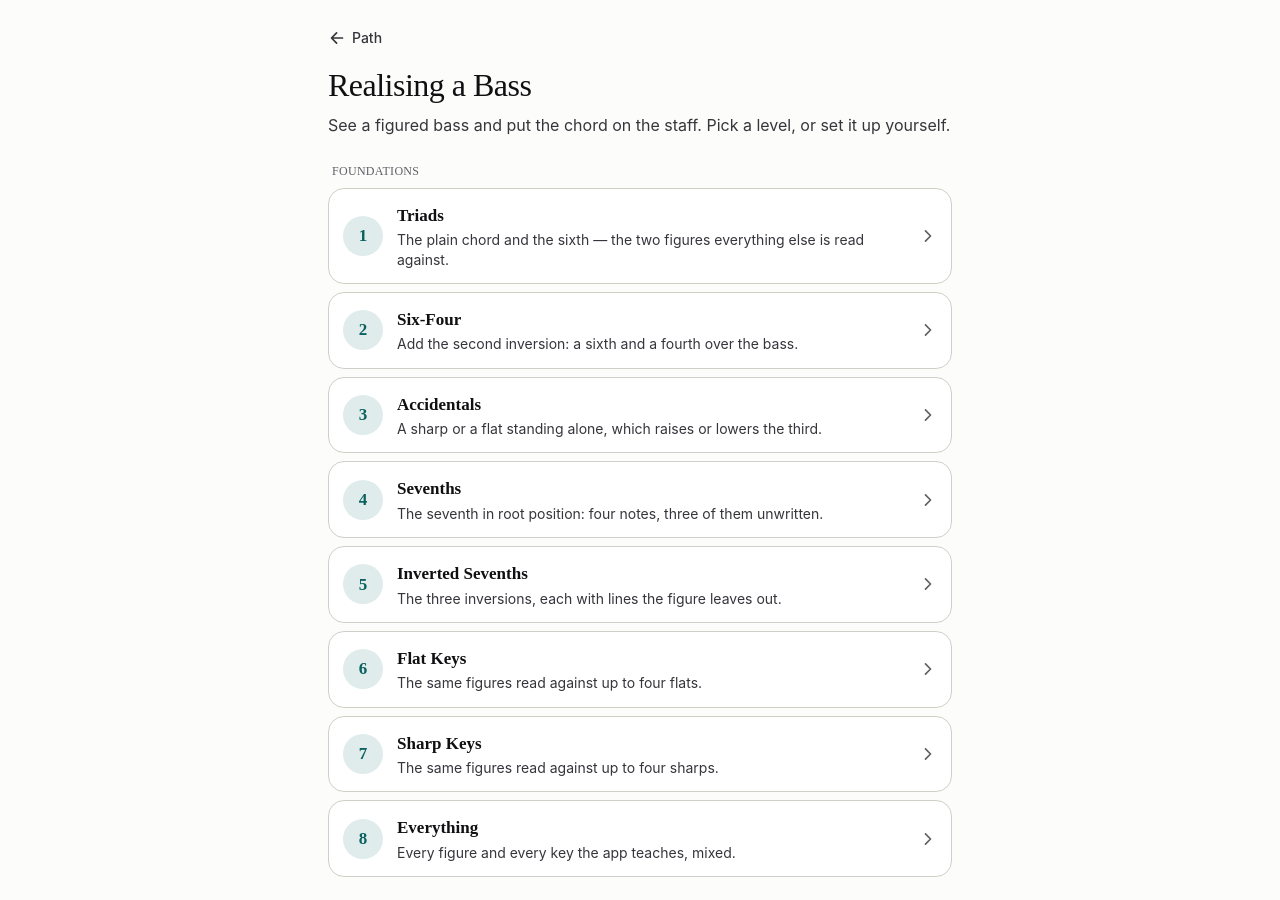
Scenario: realising a bass › opens on the levels, and starts a round in the same tap
The width and height of the screenshot is (1280, 900).
Expected: the text "Triads" is shown, [397,206,444,225]
Click the button "Triads".
click(640, 236)  # box [328,188,952,284]
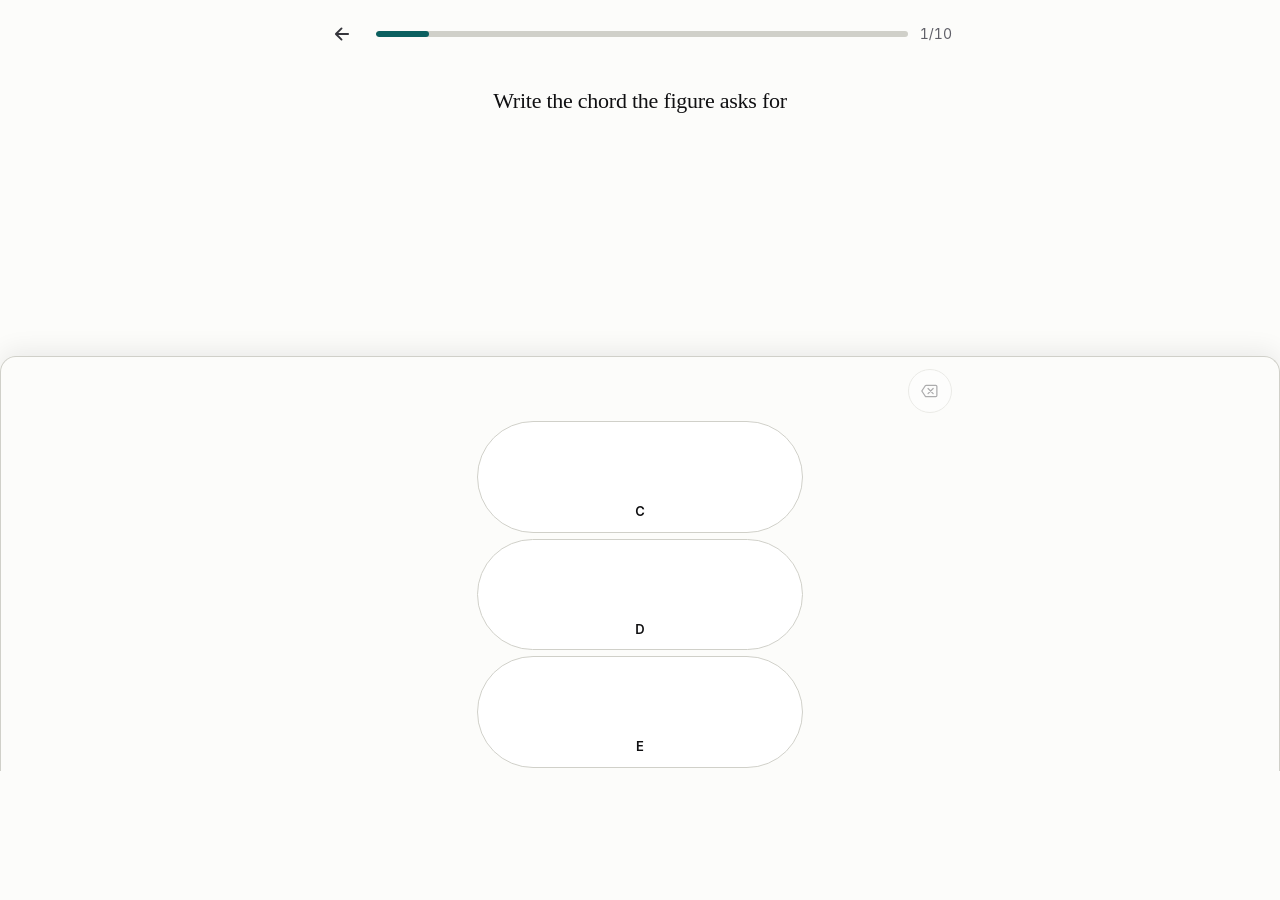
Now the heading "Write the chord the figure asks for" is shown, box [493,88,787,114]
Now the progress indicator is shown, box [376,31,908,37]
